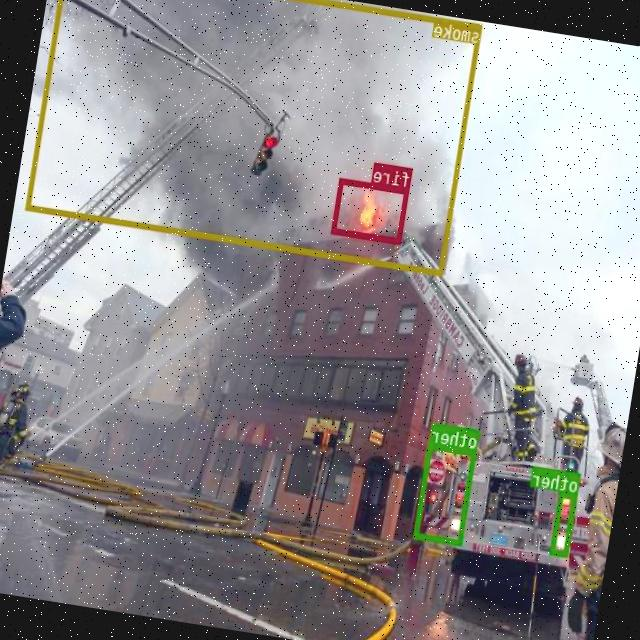fire: (332, 177, 410, 243)
smoke: (26, 0, 483, 275)
